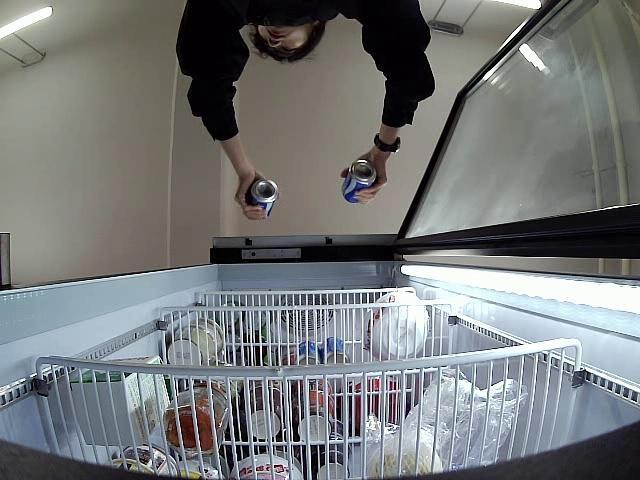13_pocariSweat: (342, 159, 377, 204), (245, 176, 280, 220)
